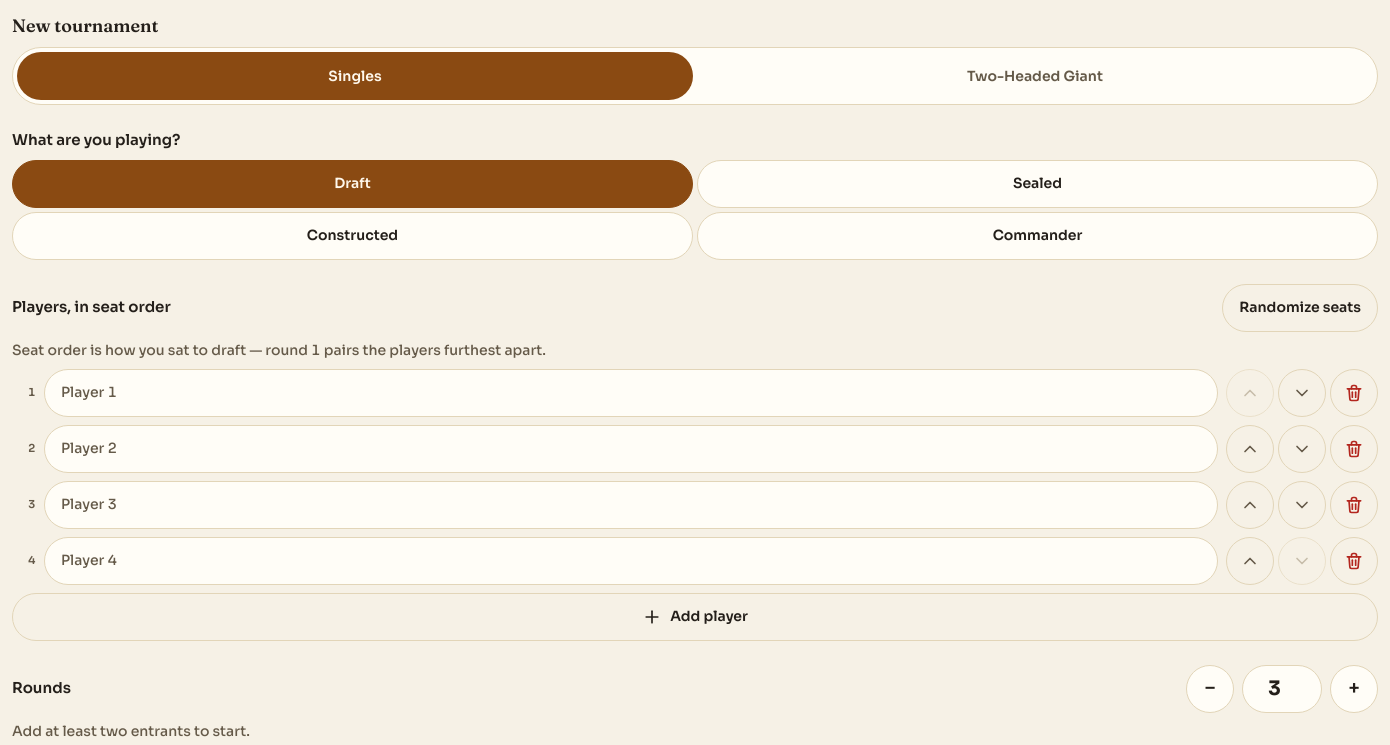
Test case: TournamentSetupScreen › asks for two names per team in Two-Headed Giant
Click the button "Two-Headed Giant". click: (1035, 76)
box: top-left (697, 52), bottom-right (1373, 100)
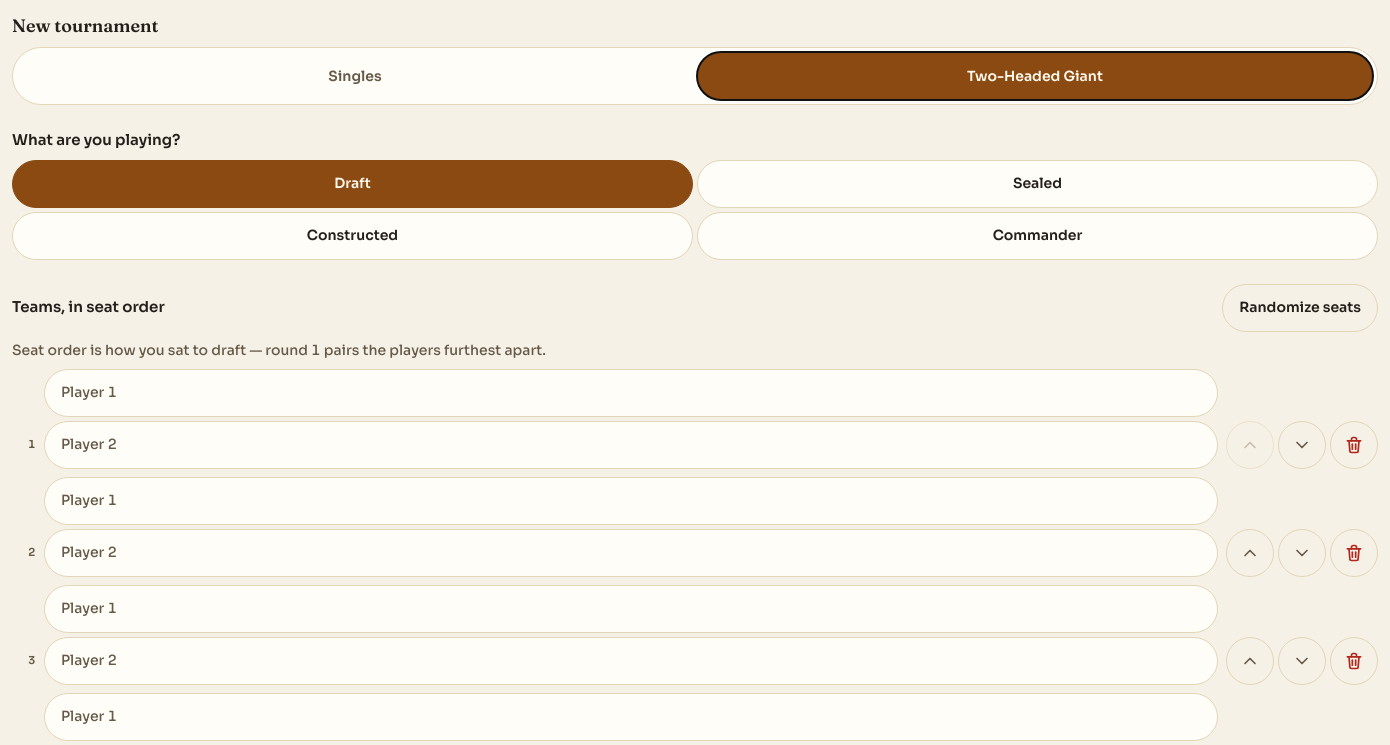
Expected: the field named "Team 1 player 1" is shown, top-left (61, 382), bottom-right (1201, 403)
Expected: the field named "Team 1 player 2" is shown, top-left (61, 434), bottom-right (1201, 455)
